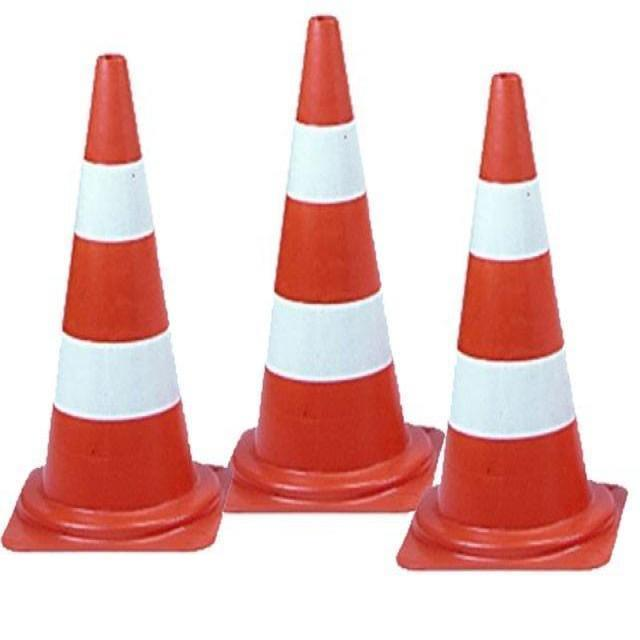traffic cone: (395, 71, 629, 571), (1, 52, 224, 554), (224, 14, 443, 513)
